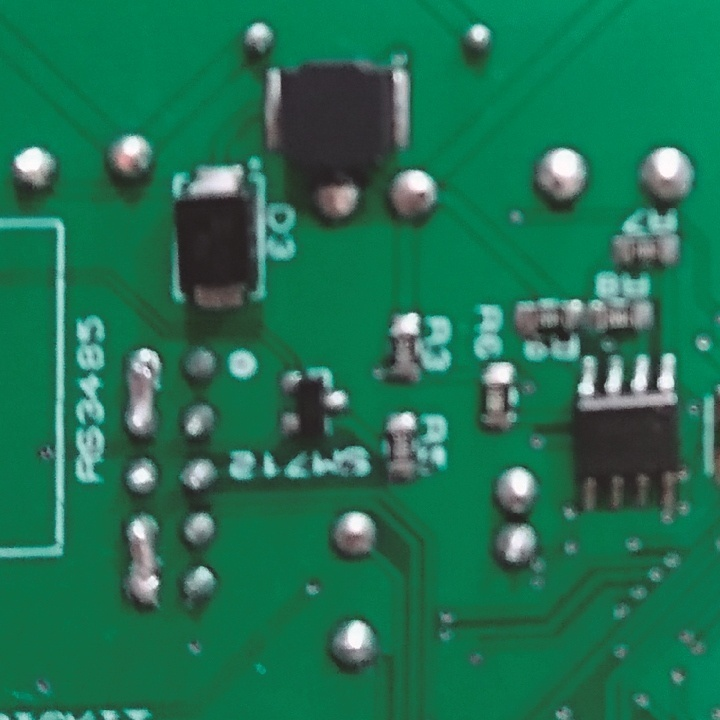P: (121, 515, 163, 608), (123, 345, 158, 438)
